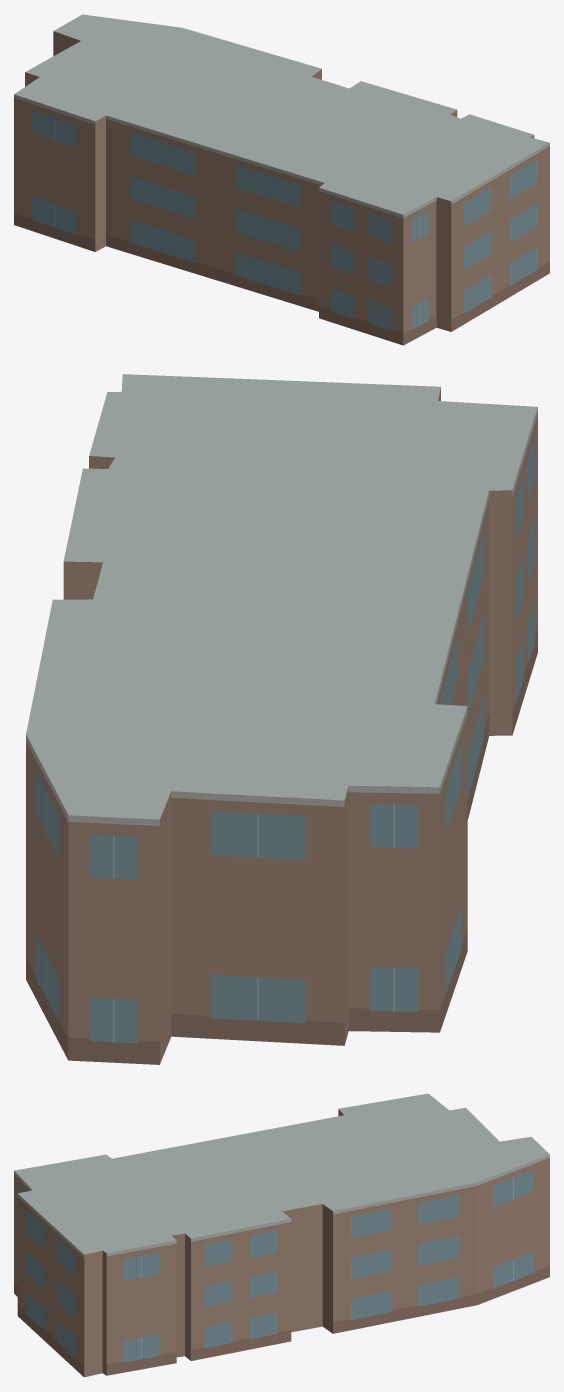
Rendered from survey-upis-32467883.glb.
3 views of the same model, one above another, from view 1: azimuth 30°, elevation 25°; view 2: azimuth 150°, elevation 25°; view 3: azimuth 270°, elevation 25° (orthographic). The views are drawn at different scales.
Parts seen in each view (by area): view 1: survey-upis-32467883.tmp; view 2: survey-upis-32467883.tmp; view 3: survey-upis-32467883.tmp.
Part boxes in pixels (<box>): survey-upis-32467883.tmp: <box>14,14,549,345</box>; survey-upis-32467883.tmp: <box>26,374,537,1064</box>; survey-upis-32467883.tmp: <box>14,1093,549,1377</box>.
Bounding box in the file's own units: 25.82 × 9.15 × 36.25.
